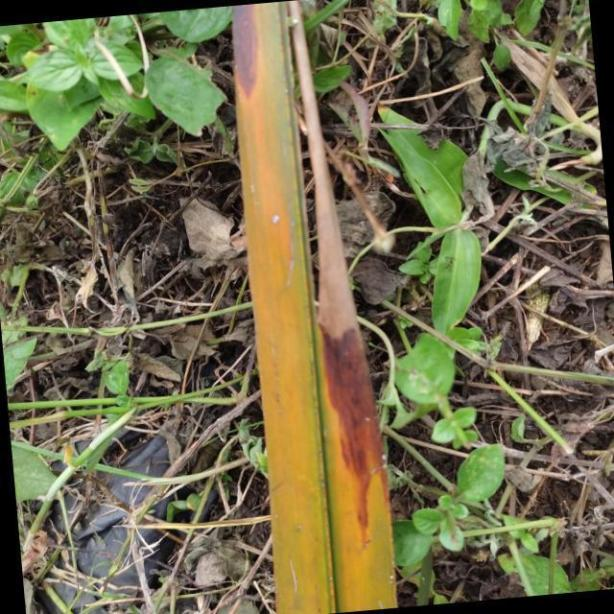Megnesium: (230, 0, 402, 614)
